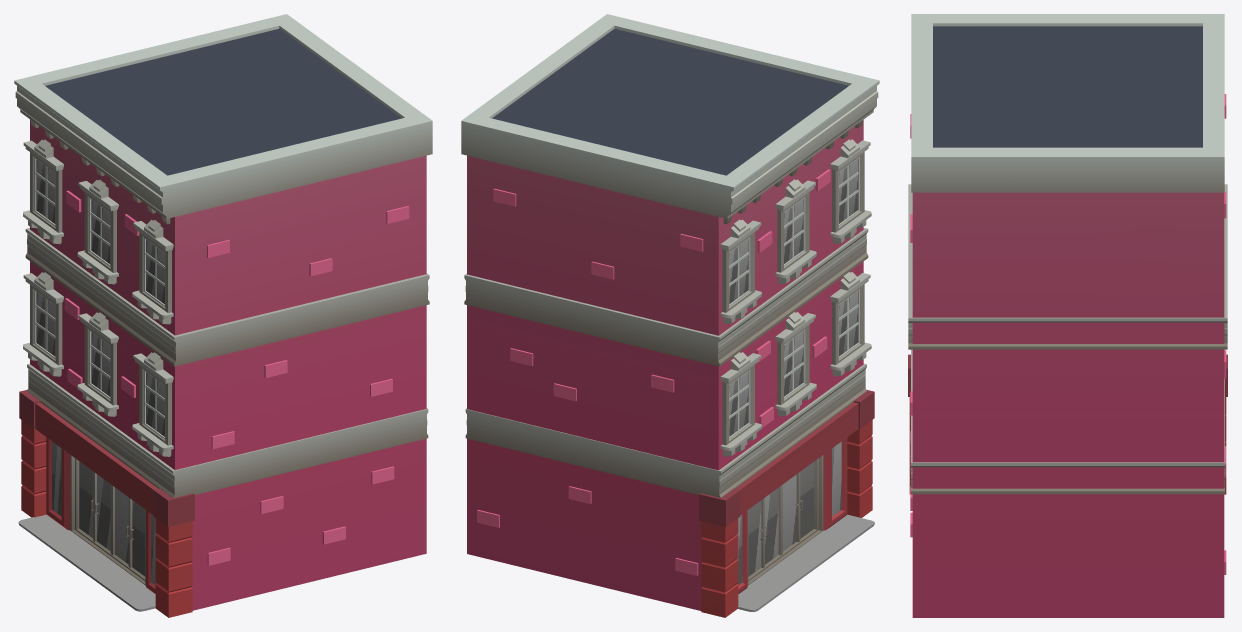
Rendered from Building_21_3_C.fbx.
The picture shows the model from 3 angles, left to right: view 1: azimuth 30°, elevation 25°; view 2: azimuth 150°, elevation 25°; view 3: azimuth 270°, elevation 25°; orthographic projection. The views are drawn at different scales.
Parts seen in each view (by area): view 1: Building_21_3_C; view 2: Building_21_3_C; view 3: Building_21_3_C.
Part boxes in pixels (x1=…): Building_21_3_C: x1=14, y1=14, x2=432, y2=617; Building_21_3_C: x1=461, y1=14, x2=879, y2=617; Building_21_3_C: x1=908, y1=14, x2=1227, y2=617.
Size of the model in its own units: 779 by 1141 by 713.
